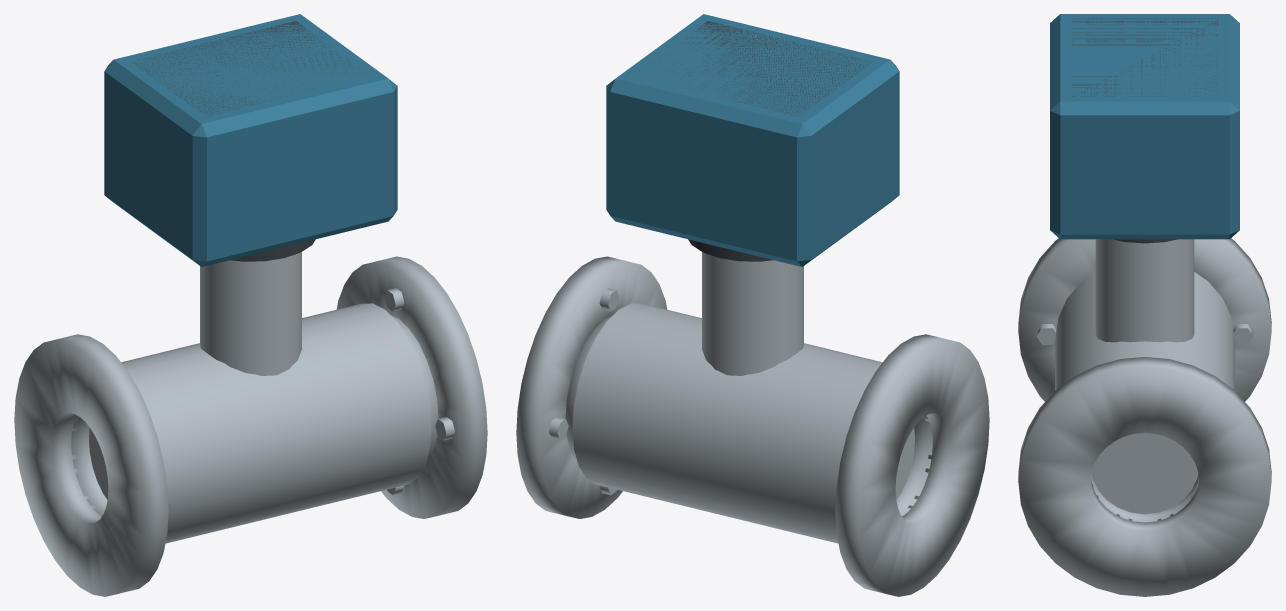
The model's file is SM_Plant_Valve2Way.glb.
The picture shows the model from 3 angles, left to right: view 1: azimuth 30°, elevation 25°; view 2: azimuth 150°, elevation 25°; view 3: azimuth 270°, elevation 25°; orthographic projection. The views are drawn at different scales.
Parts seen in each view (by area): view 1: SM_Plant_Valve2Way; view 2: SM_Plant_Valve2Way; view 3: SM_Plant_Valve2Way.
Part boxes in pixels (bbox=[...]): SM_Plant_Valve2Way: bbox=[14, 14, 487, 596]; SM_Plant_Valve2Way: bbox=[516, 14, 989, 596]; SM_Plant_Valve2Way: bbox=[1018, 14, 1271, 596].
Size of the model in its own units: 0.3 by 0.4 by 0.2.
